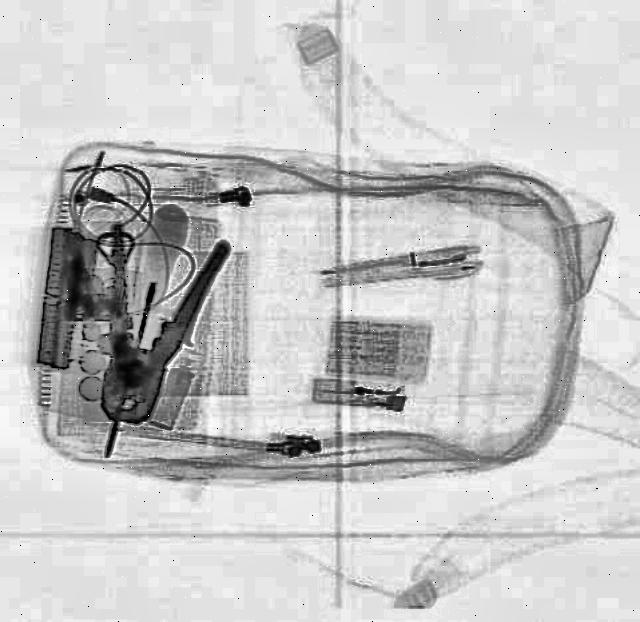Pliers: (64, 219, 232, 434)
